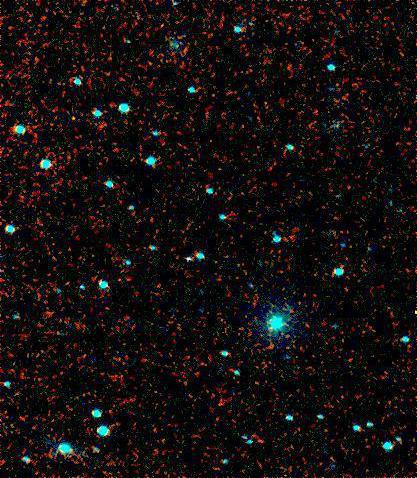star: (58, 103, 88, 133)
